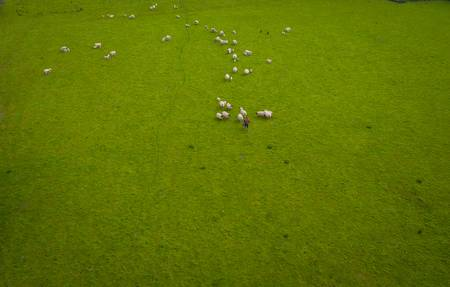sheep: (91, 40, 102, 51), (254, 108, 265, 118), (264, 108, 274, 119), (41, 66, 52, 75), (220, 109, 231, 118), (235, 112, 244, 123), (242, 47, 253, 56), (222, 72, 231, 82), (214, 112, 224, 121), (242, 66, 251, 76), (264, 56, 274, 65), (230, 52, 239, 61), (182, 21, 192, 29), (127, 12, 137, 20), (101, 52, 110, 60), (164, 33, 173, 41), (218, 28, 226, 37), (284, 25, 293, 33), (191, 18, 201, 25), (230, 38, 240, 45), (60, 43, 68, 51), (108, 50, 117, 56)
